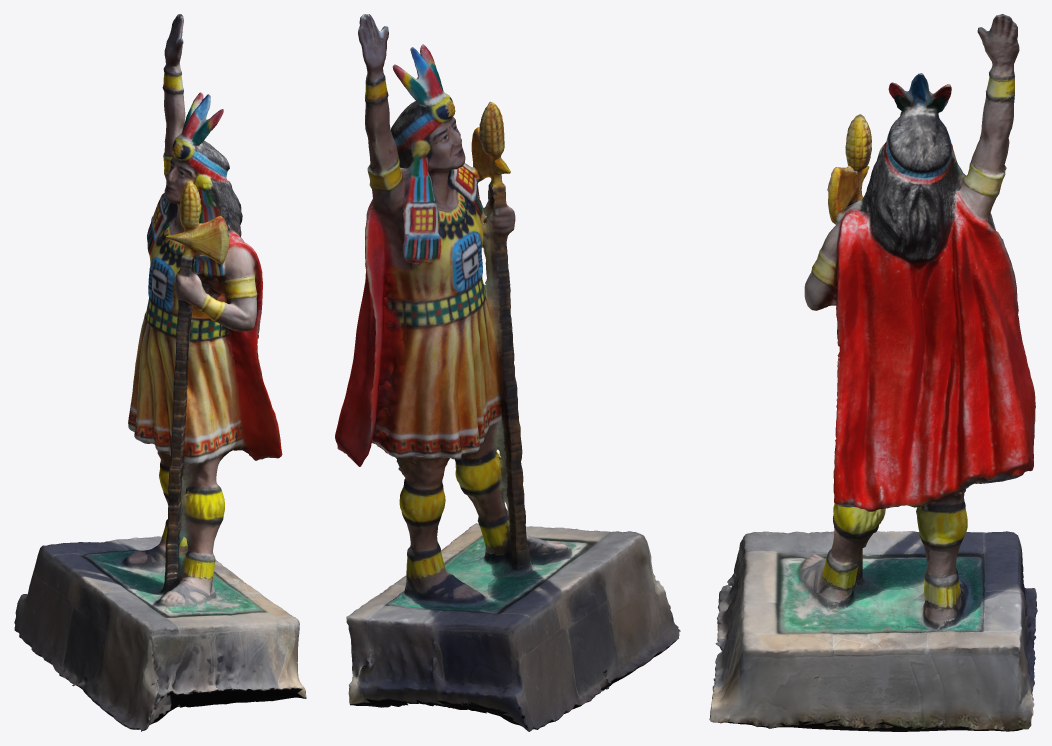
File: Inca.glb
The picture shows the model from 3 angles, left to right: view 1: azimuth 30°, elevation 25°; view 2: azimuth 150°, elevation 25°; view 3: azimuth 270°, elevation 25°; orthographic projection. The views are drawn at different scales.
Visible parts, largest first — view 1: Object_2; view 2: Object_2; view 3: Object_2.
Part boxes in pixels (box(x1,y1,x2,y2)): Object_2: box(14, 14, 306, 731); Object_2: box(335, 14, 680, 731); Object_2: box(709, 14, 1037, 731).
Bounding box in the file's own units: 19.67 × 58.31 × 23.9.
Materials: 1 (1 with a texture image).
